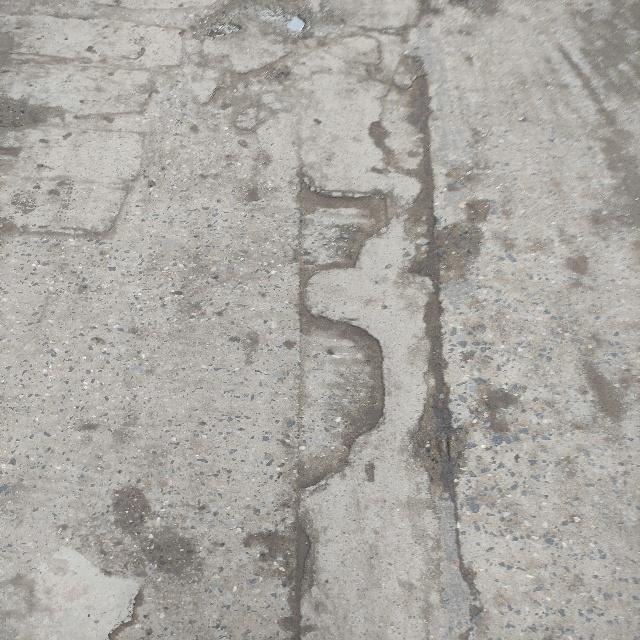Surface Erosion: (180, 11, 542, 622)
